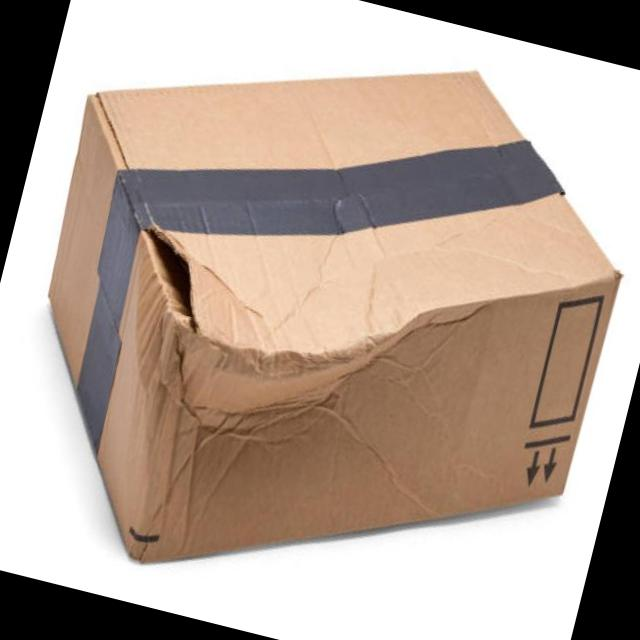box: (66, 56, 576, 544)
